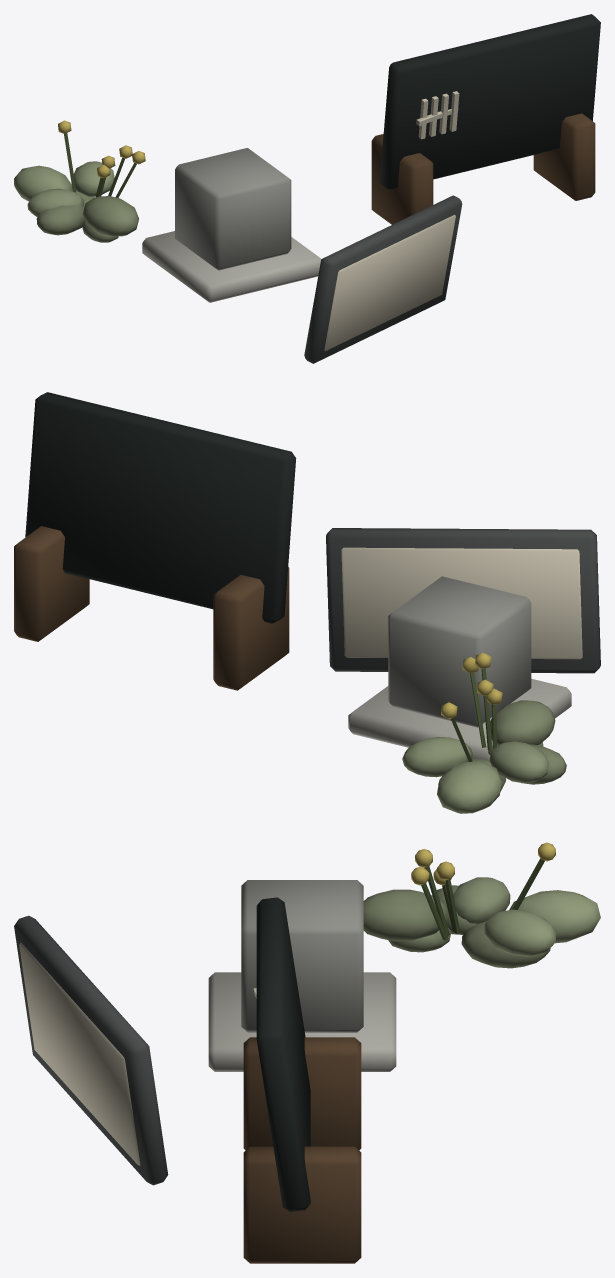
File: stencil_post_c.glb
3 renders of one model, top to bottom at view 1: azimuth 30°, elevation 25°; view 2: azimuth 150°, elevation 25°; view 3: azimuth 270°, elevation 25°, orthographic. The views are drawn at different scales.
Visible parts, largest first — view 1: Surface; view 2: Surface; view 3: Surface.
Boxes of the visible parts, x1,y1,x2,y2 form: Surface: [14, 14, 600, 363]; Surface: [14, 392, 600, 813]; Surface: [14, 842, 600, 1263].
Size of the model in its own units: 5.02 by 2.02 by 3.75.
